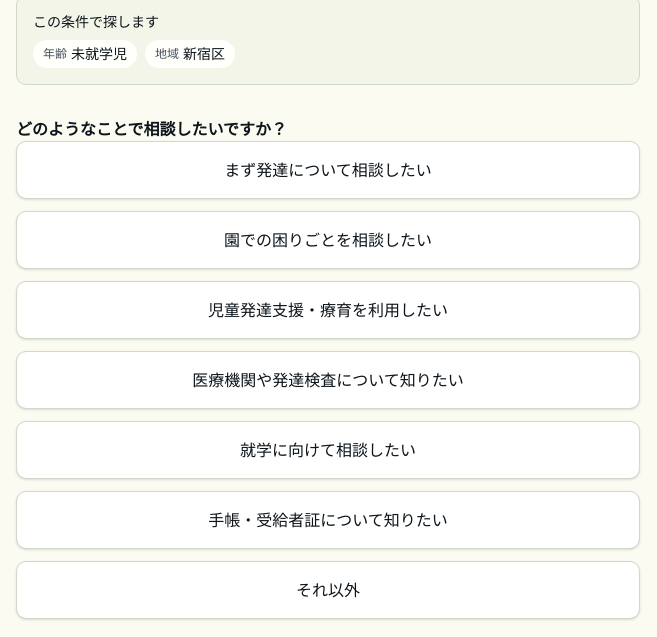
Scenario: PurposeSelectionForm › 「それ以外」をクリックすると textarea が表示される
(page scrolled)
What coordinates should you click on to do the following:
click the button "それ以外"
I would click on:
 (328, 590)
Its box is [16,561,640,619].
(page scrolled)
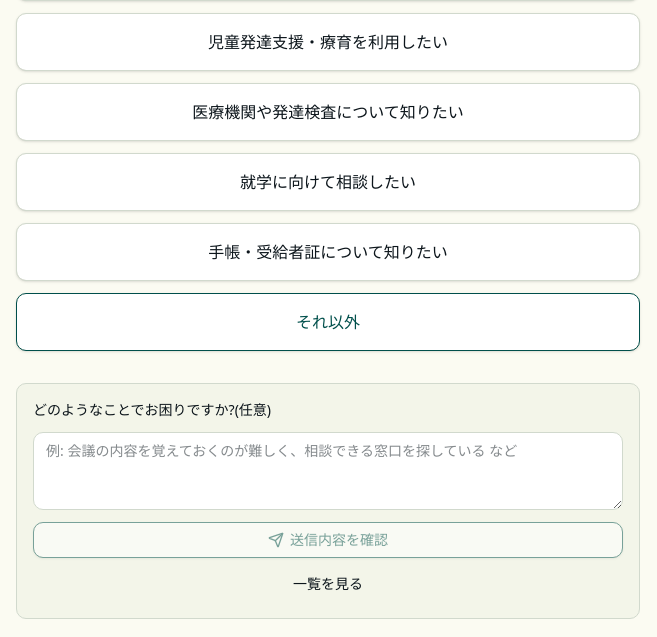
expect the text box is shown: met, box [33,432,623,510]
